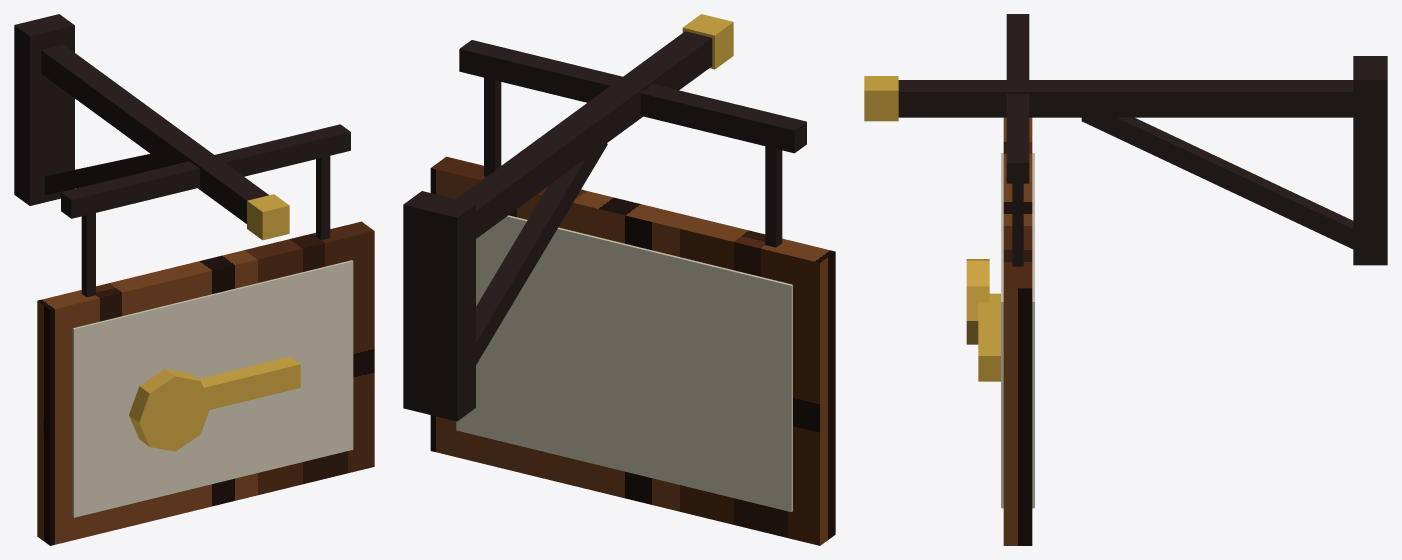
The model's file is hanging_sign_key.glb.
The picture shows the model from 3 angles, left to right: view 1: azimuth 30°, elevation 25°; view 2: azimuth 150°, elevation 25°; view 3: azimuth 270°, elevation 25°; orthographic projection. The views are drawn at different scales.
Parts seen in each view (by area): view 1: hanging_sign_key; view 2: hanging_sign_key; view 3: hanging_sign_key.
Part boxes in pixels (x1,y1,x2,y2): hanging_sign_key: (14, 14, 374, 545); hanging_sign_key: (403, 14, 835, 545); hanging_sign_key: (864, 14, 1387, 545).
Bounding box in the file's own units: 0.72 × 0.76 × 0.92.
Materials: 2 (1 with a texture image).
